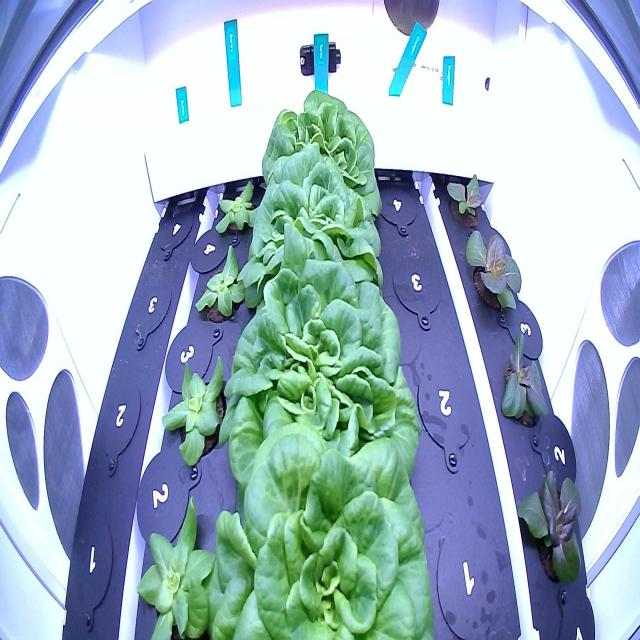Ready: (215, 249, 425, 505), (211, 416, 446, 639), (233, 151, 388, 327), (255, 84, 383, 218)
empty_pod: (429, 512, 511, 639), (412, 354, 476, 466), (67, 513, 117, 619), (92, 371, 143, 466), (390, 247, 445, 326), (128, 267, 175, 352), (156, 192, 195, 259), (377, 173, 418, 236)
young: (132, 490, 218, 640), (511, 452, 591, 612), (158, 344, 238, 474), (494, 324, 558, 439), (461, 220, 527, 330), (189, 238, 253, 334), (211, 166, 266, 246), (442, 164, 499, 238)
